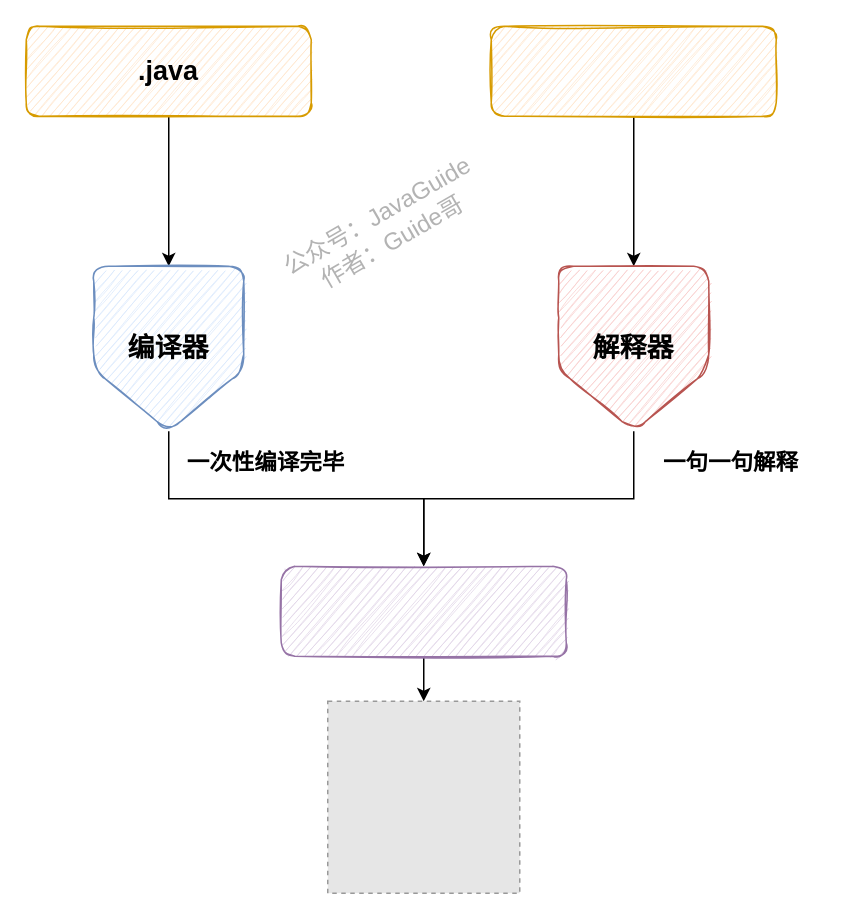
Image size: 848x920. Some labels were removed from this diagram. Grey dashed boxes stand in for pictures. The centre of each missing label's shape, as x and y in pixels:
机器可理解的代码: the point at 423,610
解释型语言源代码: the point at 633,70
